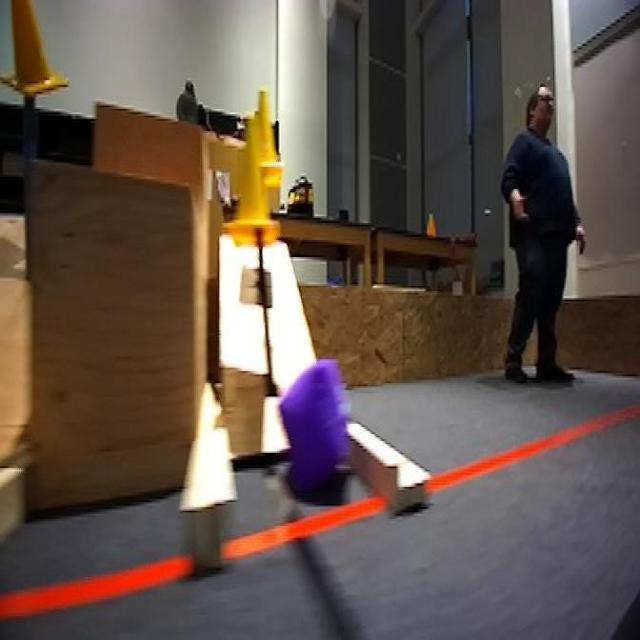frc_cone: (3, 0, 69, 107), (227, 119, 277, 254), (250, 85, 285, 182)
frc_cube: (272, 358, 356, 493)
